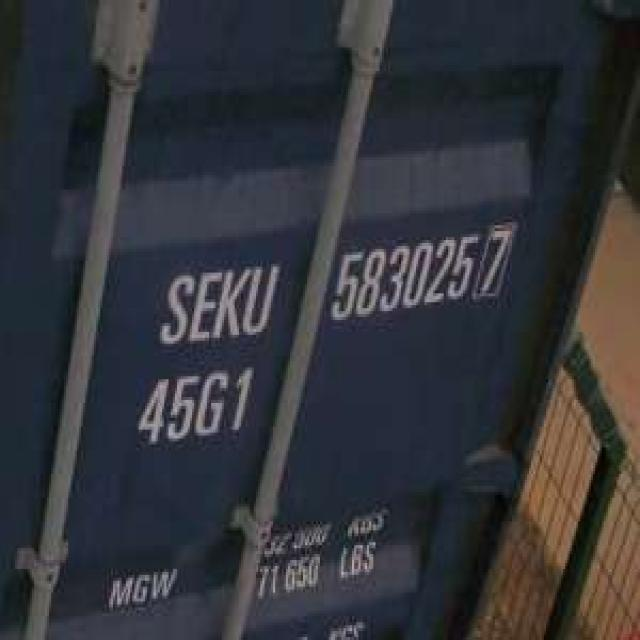dv: (476, 216, 516, 305)
owner: (156, 254, 282, 350)
serial: (328, 228, 476, 326)
size: (132, 362, 254, 454)
